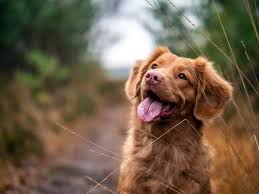dog: (109, 38, 236, 142)
